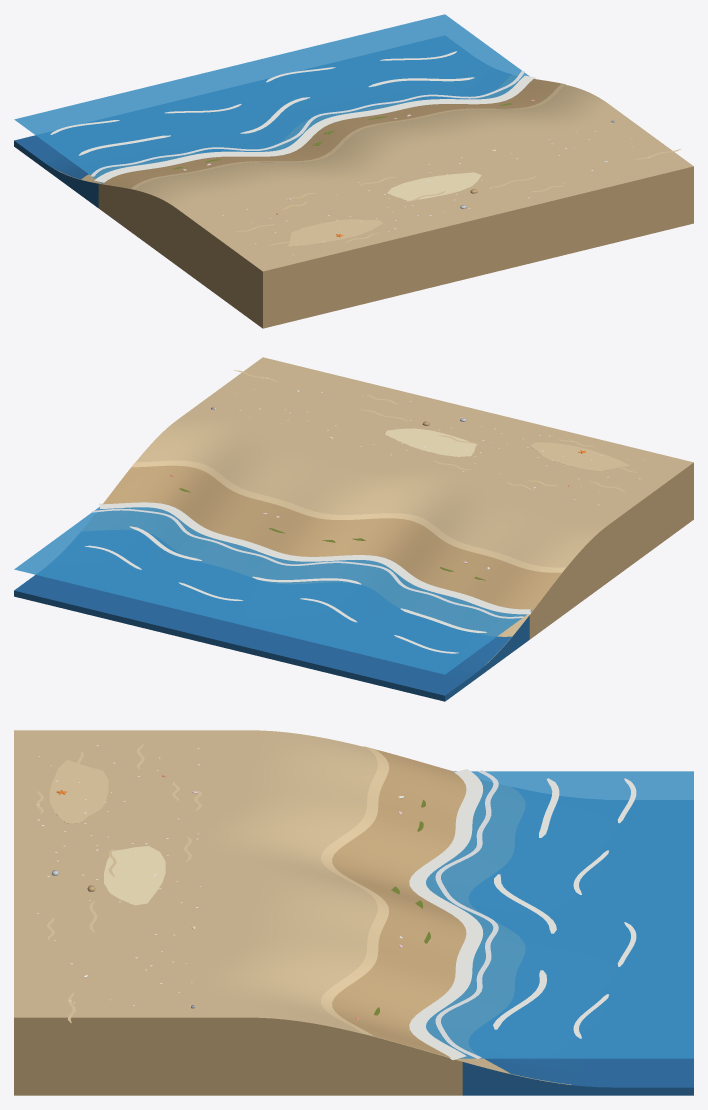
Rendered from piso_areia_mar.glb.
The picture shows the model from 3 angles, top to bottom: view 1: azimuth 30°, elevation 25°; view 2: azimuth 150°, elevation 25°; view 3: azimuth 270°, elevation 25°; orthographic projection. The views are drawn at different scales.
Visible parts, largest first — view 1: piso_areia_mar, espuma; view 2: piso_areia_mar, espuma; view 3: piso_areia_mar, espuma.
Boxes of the visible parts, x1=… form: piso_areia_mar: x1=14, y1=14, x2=693, y2=328; espuma: x1=50, y1=51, x2=535, y2=182; piso_areia_mar: x1=14, y1=357, x2=693, y2=701; espuma: x1=85, y1=502, x2=530, y2=653; piso_areia_mar: x1=14, y1=730, x2=693, y2=1095; espuma: x1=409, y1=769, x2=636, y2=1060.
Bounding box in the file's own units: 15.39 × 1.98 × 15.
Materials: 2 (1 with a texture image).
